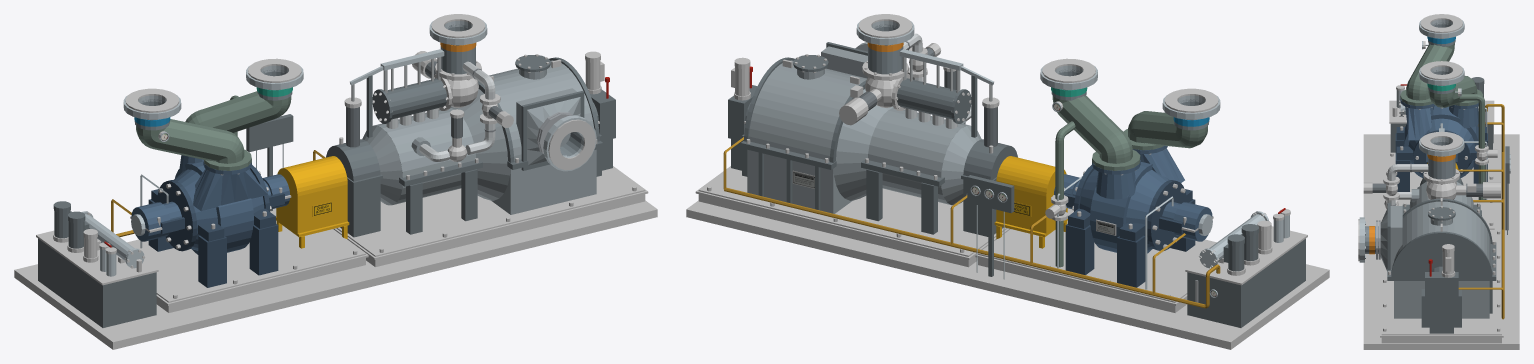
File: inventory.obj
3 views of the same model, side by side, from view 1: azimuth 30°, elevation 25°; view 2: azimuth 150°, elevation 25°; view 3: azimuth 270°, elevation 25° (orthographic). The views are drawn at different scales.
Size of the model in its own units: 0.9 by 0.303 by 0.2929.
